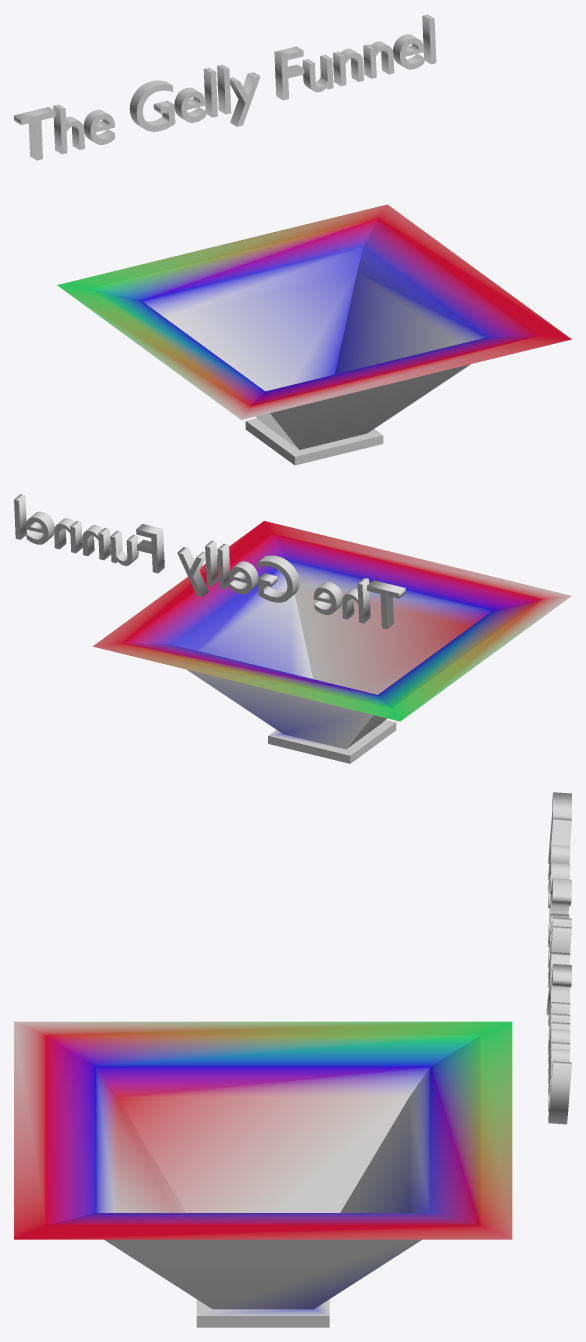
File: 02_gelly_funnel.gltf
The picture shows the model from 3 angles, top to bottom: view 1: azimuth 30°, elevation 25°; view 2: azimuth 150°, elevation 25°; view 3: azimuth 270°, elevation 25°; orthographic projection. The views are drawn at different scales.
Visible parts, largest first — view 1: Cube, Text; view 2: Cube, Text; view 3: Cube, Text.
Part boxes in pixels (x1,y1,x2,y2): Cube: (57, 204, 571, 465); Text: (14, 14, 436, 160); Cube: (93, 521, 571, 763); Text: (14, 494, 405, 629); Cube: (14, 1021, 512, 1327); Text: (546, 792, 571, 1124).
Bounding box in the file's own units: 26.08 × 17.15 × 22.55.
